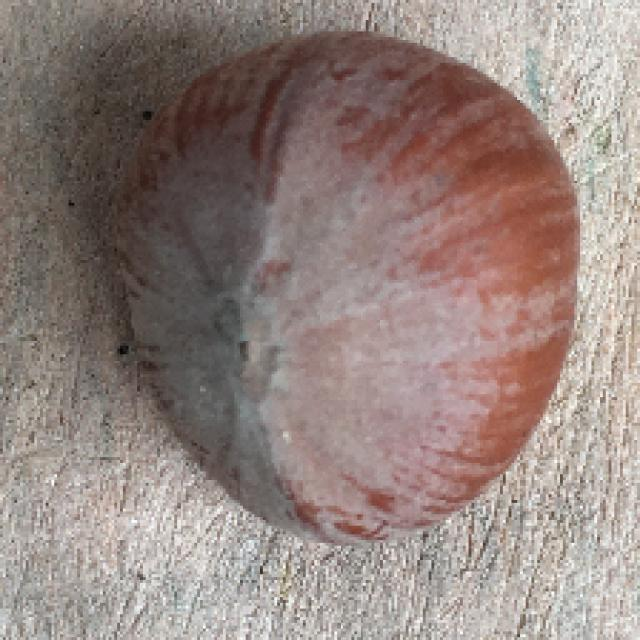qualityHazelnut: (108, 22, 591, 548)
